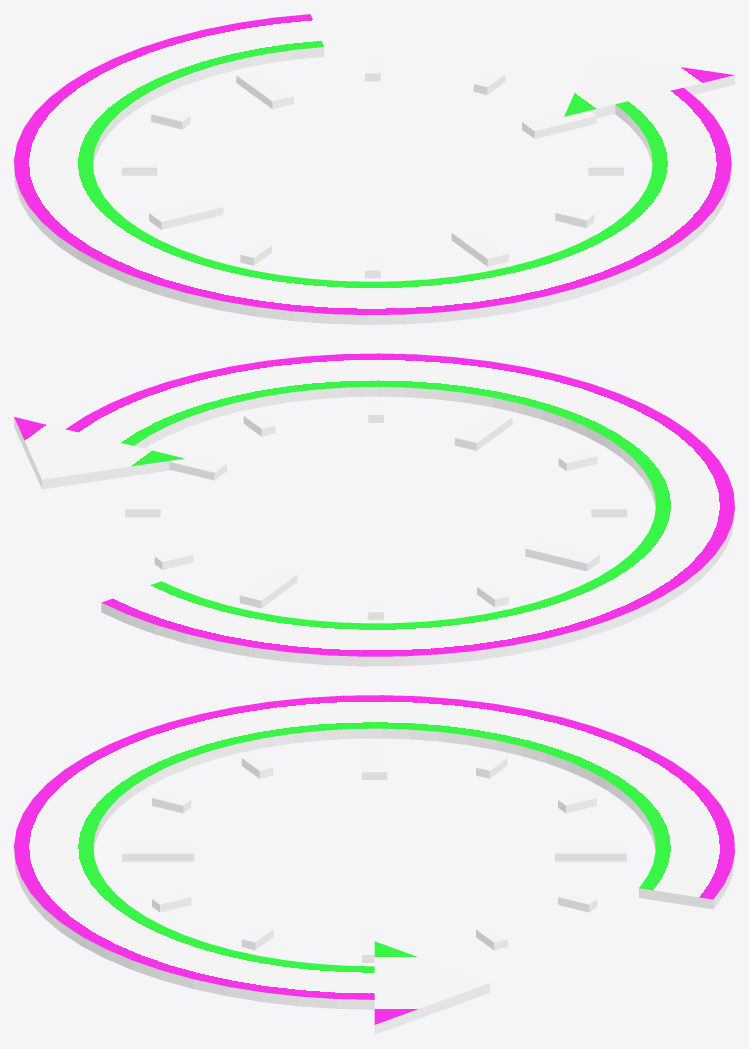
File: Rewind.glb
The picture shows the model from 3 angles, top to bottom: view 1: azimuth 30°, elevation 25°; view 2: azimuth 150°, elevation 25°; view 3: azimuth 270°, elevation 25°; orthographic projection.
Parts seen in each view (by area): view 1: RewindDial; view 2: RewindDial; view 3: RewindDial.
Part boxes in pixels (<box>): RewindDial: <box>14,14,734,324</box>; RewindDial: <box>14,353,734,666</box>; RewindDial: <box>14,695,734,1034</box>.
Size of the model in its own units: 2.16 by 0.03 by 2.
Materials: 1 (1 with a texture image).
